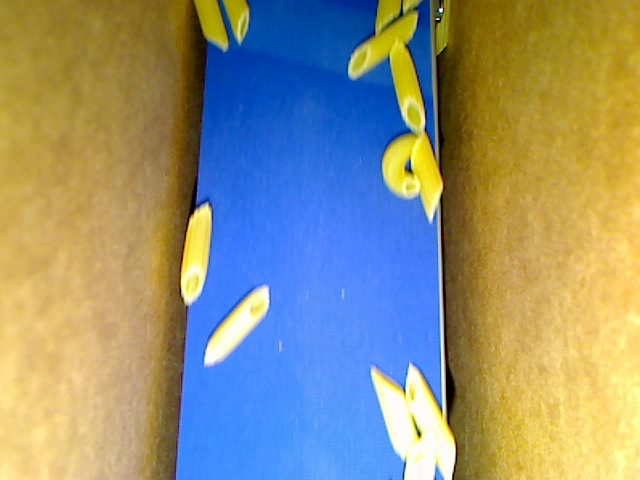elbow: (376, 130, 424, 203)
penne: (200, 283, 271, 367), (408, 359, 455, 479), (368, 366, 420, 466), (347, 11, 421, 81), (178, 197, 213, 301), (388, 39, 425, 130), (412, 127, 445, 216), (194, 1, 231, 55), (399, 430, 435, 479), (223, 1, 252, 47), (373, 1, 401, 37), (431, 1, 448, 56), (403, 1, 424, 16)
